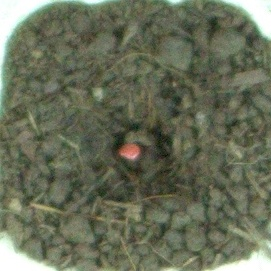pepper seed: (44, 61, 188, 223)
